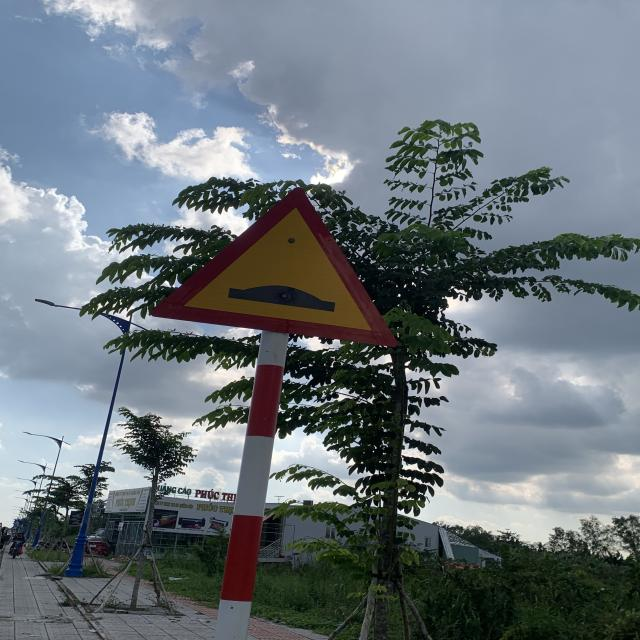Duong_Cong_Ben_Phai: (145, 185, 396, 350)
